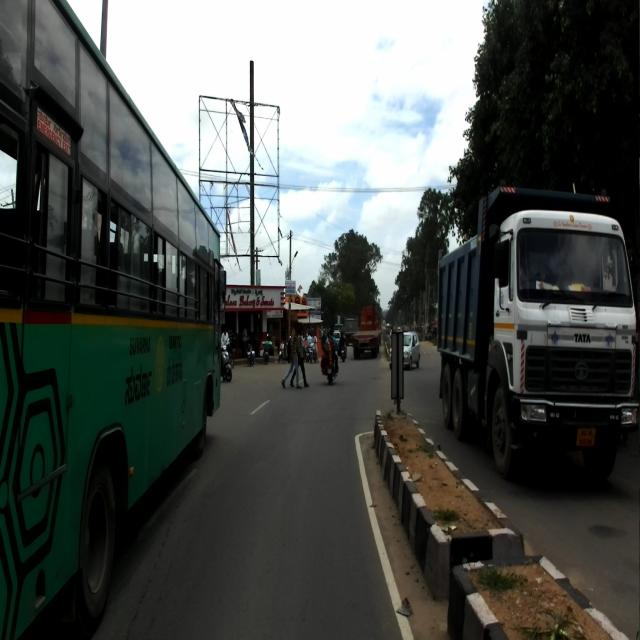bus: (0, 0, 228, 638)
truck: (434, 184, 640, 483)
